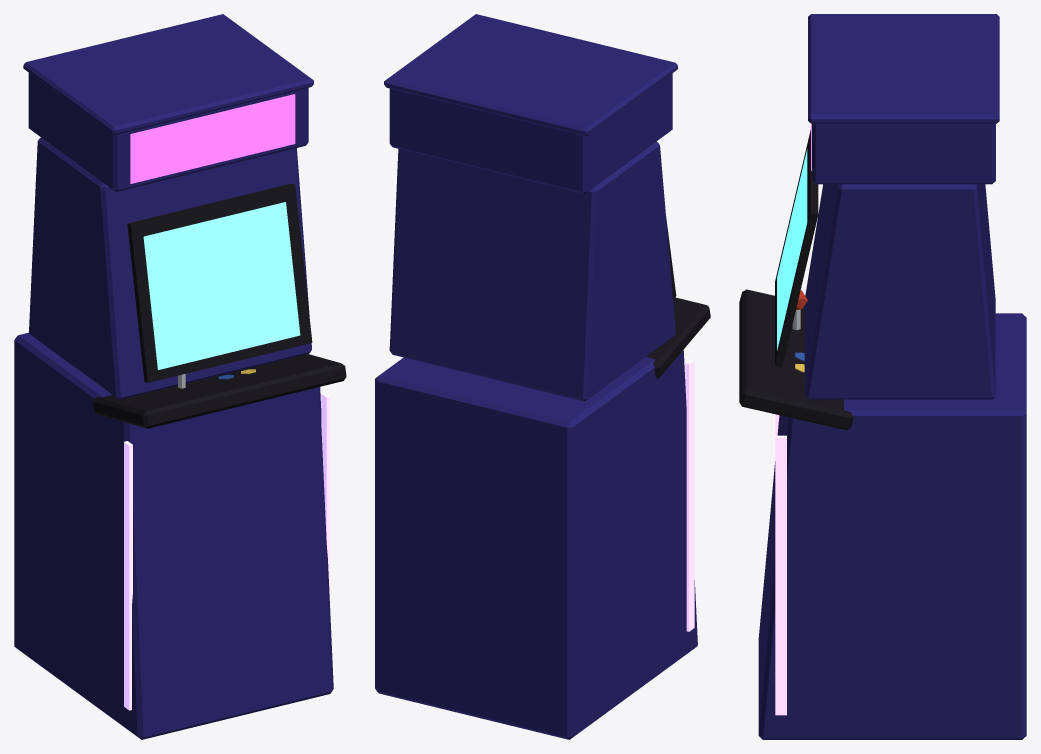
The model's file is arcade.glb.
The picture shows the model from 3 angles, left to right: view 1: azimuth 30°, elevation 25°; view 2: azimuth 150°, elevation 25°; view 3: azimuth 270°, elevation 25°; orthographic projection. The views are drawn at different scales.
Parts seen in each view (by area): view 1: arcade; view 2: arcade; view 3: arcade.
Part boxes in pixels (x1=…): arcade: x1=14, y1=14, x2=346, y2=739; arcade: x1=375, y1=14, x2=710, y2=739; arcade: x1=739, y1=14, x2=1026, y2=739.
Size of the model in its own units: 0.64 by 1.81 by 0.7492.
